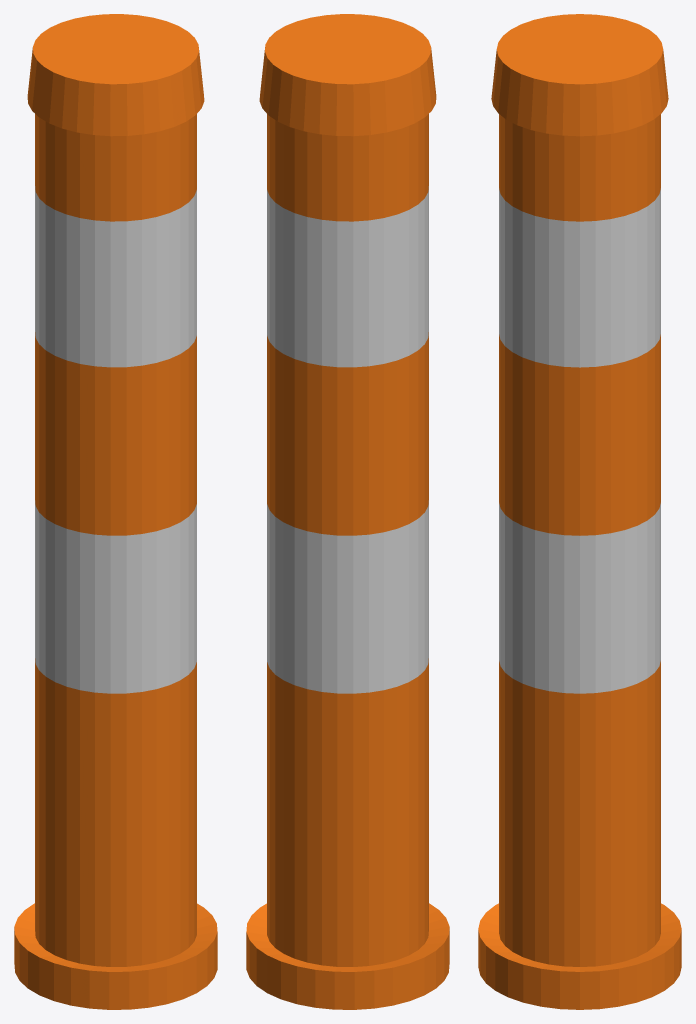
File: road_block_pole.glb
3 renders of one model, left to right at view 1: azimuth 30°, elevation 25°; view 2: azimuth 150°, elevation 25°; view 3: azimuth 270°, elevation 25°, orthographic.
Parts seen in each view (by area): view 1: Cylinder; view 2: Cylinder; view 3: Cylinder.
Boxes of the visible parts, left/top/right/bottom form: Cylinder: left=14, top=14, right=217, bottom=1009; Cylinder: left=246, top=14, right=449, bottom=1009; Cylinder: left=478, top=14, right=681, bottom=1009.
Size of the model in its own units: 0.2103 by 1.05 by 0.2103.
